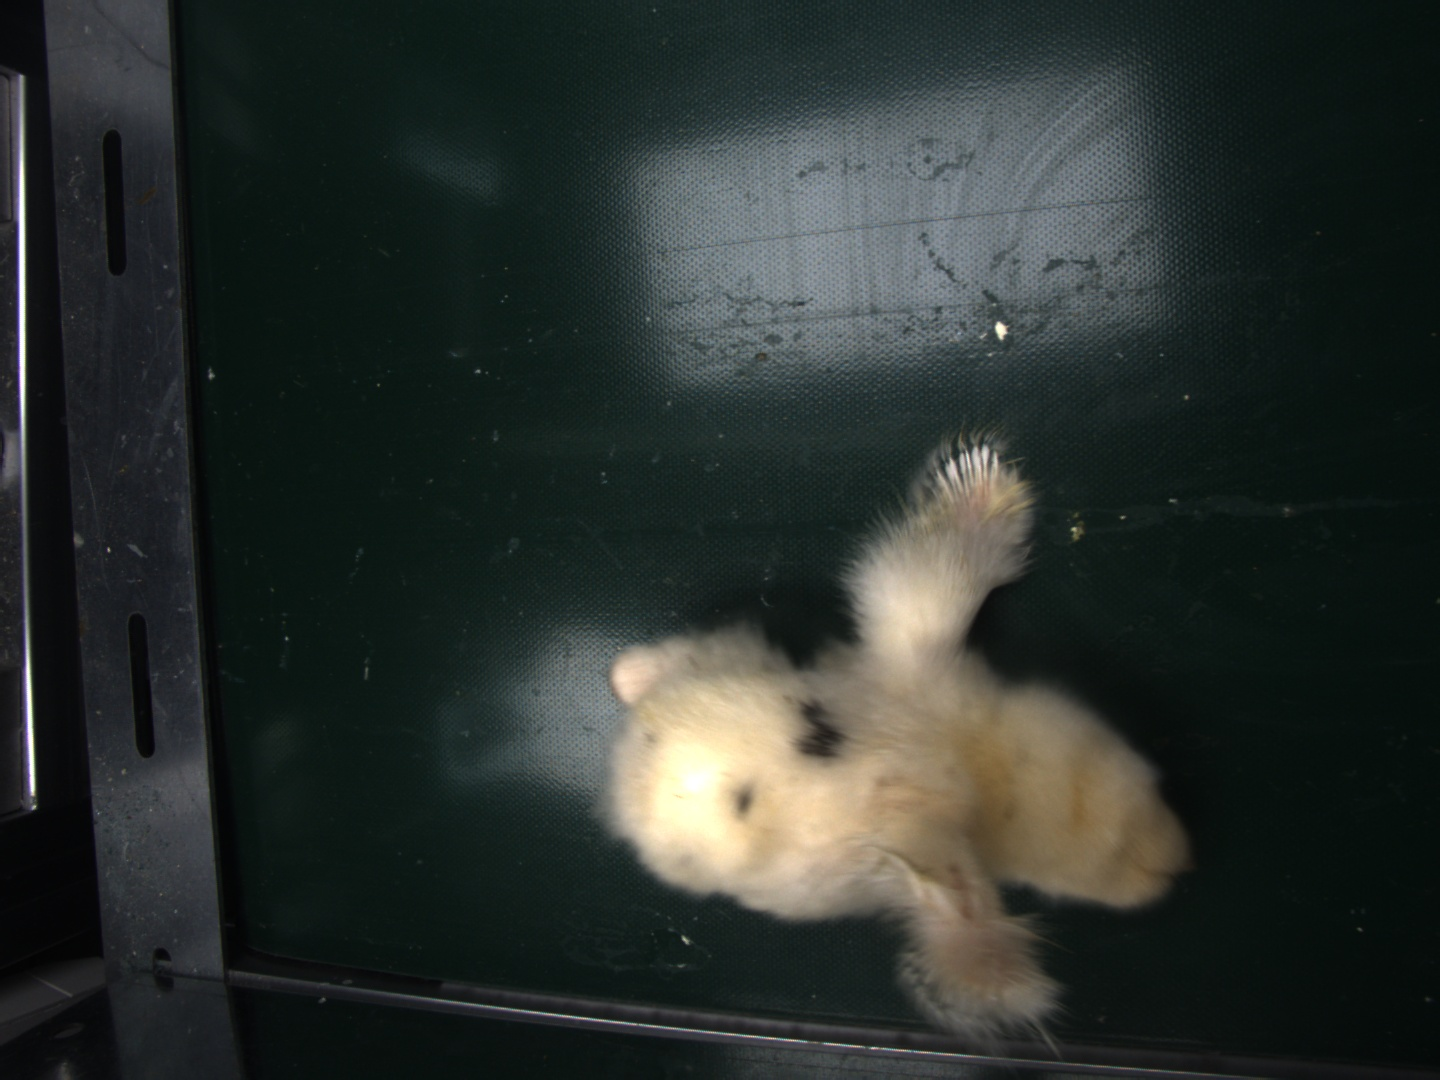male: (932, 442, 1003, 509)
